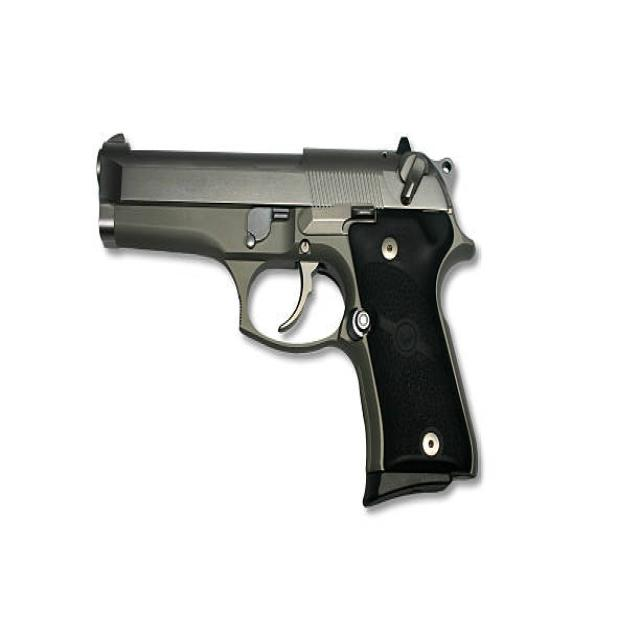pistol: (86, 121, 487, 519)
